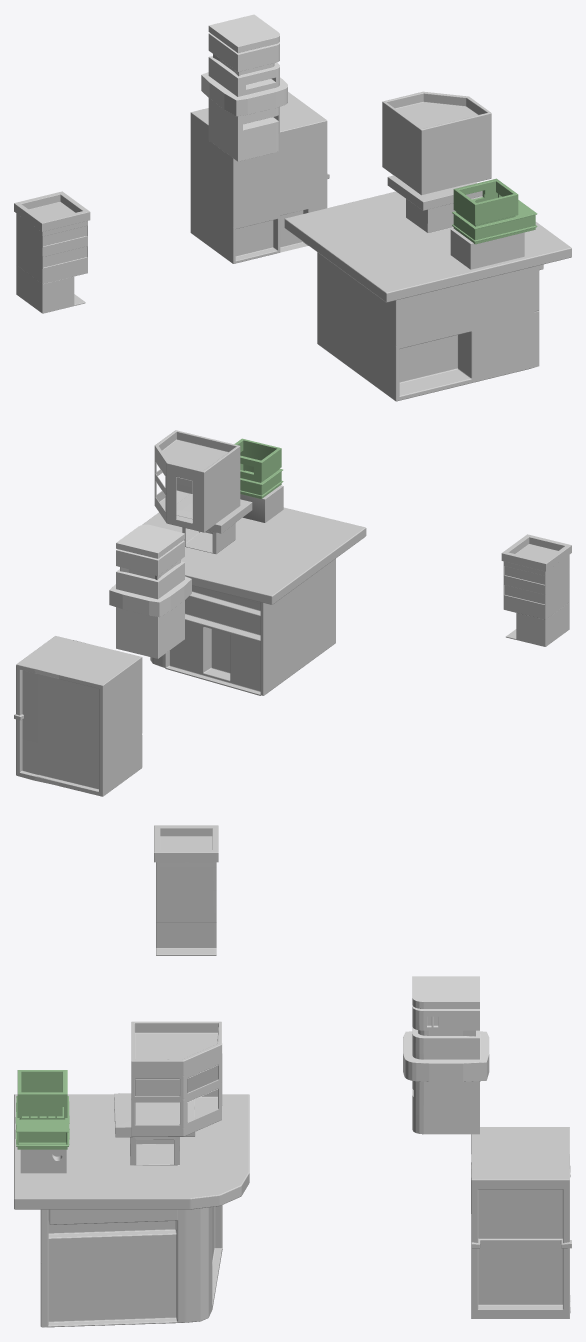
File: downtown1 Beveled.fbx
3 renders of one model, top to bottom at view 1: azimuth 30°, elevation 25°; view 2: azimuth 150°, elevation 25°; view 3: azimuth 270°, elevation 25°, orthographic. The views are drawn at different scales.
Parts seen in each view (by area): view 1: Cube.050, Cube.051, Box.001, Cube.052, Cube.104, Cube.120, Cube.100, Cube.121; view 2: Cube.050, Cube.051, Box.001, Cube.052, Cube.104, Cube.120, Cube.100, Cube.121; view 3: Cube.050, Cube.051, Box.001, Cube.052, Cube.104, Cube.120, Cube.100, Cube.121.
Part boxes in pixels (left/top/right/bottom): Cube.050: left=284, top=191, right=571, bottom=401; Cube.051: left=190, top=92, right=329, bottom=263; Box.001: left=201, top=14, right=287, bottom=161; Cube.052: left=382, top=91, right=491, bottom=195; Cube.104: left=14, top=191, right=90, bottom=313; Cube.120: left=452, top=178, right=537, bottom=244; Cube.100: left=387, top=175, right=482, bottom=232; Cube.121: left=450, top=228, right=524, bottom=269; Cube.050: left=142, top=507, right=366, bottom=695; Cube.051: left=14, top=636, right=142, bottom=796; Box.001: left=109, top=524, right=191, bottom=658; Cube.052: left=154, top=430, right=240, bottom=532; Cube.104: left=501, top=534, right=571, bottom=646; Cube.120: left=234, top=438, right=283, bottom=499; Cube.100: left=176, top=493, right=252, bottom=554; Cube.121: left=240, top=485, right=283, bottom=522; Cube.050: left=14, top=1094, right=249, bottom=1327; Cube.051: left=471, top=1127, right=571, bottom=1318; Box.001: left=403, top=976, right=489, bottom=1134; Cube.052: left=131, top=1021, right=222, bottom=1136; Cube.104: left=154, top=825, right=218, bottom=955; Cube.120: left=15, top=1070, right=69, bottom=1149; Cube.100: left=114, top=1093, right=195, bottom=1165; Cube.121: left=20, top=1149, right=66, bottom=1173.
Size of the model in its own units: 13719 by 6742 by 12236.
